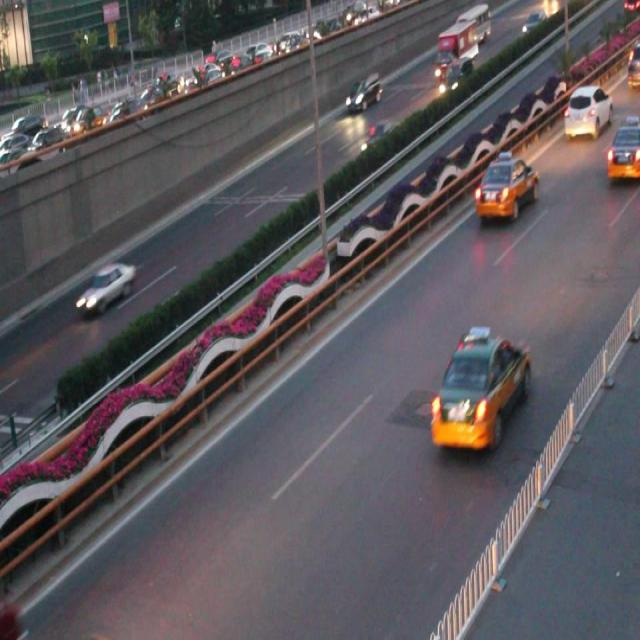car: (430, 329, 530, 451), (474, 151, 538, 221), (76, 261, 134, 315), (560, 85, 613, 139), (604, 121, 640, 182), (359, 119, 400, 156)
truck: (343, 76, 381, 114)
